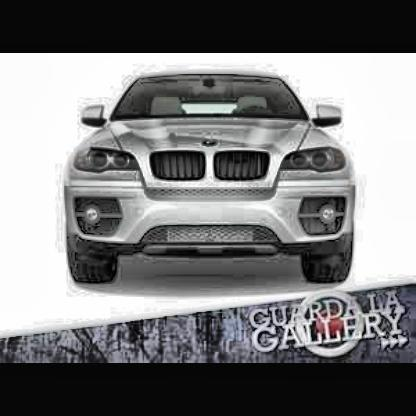BMW X6 SUV 2012: (65, 70, 361, 289)
